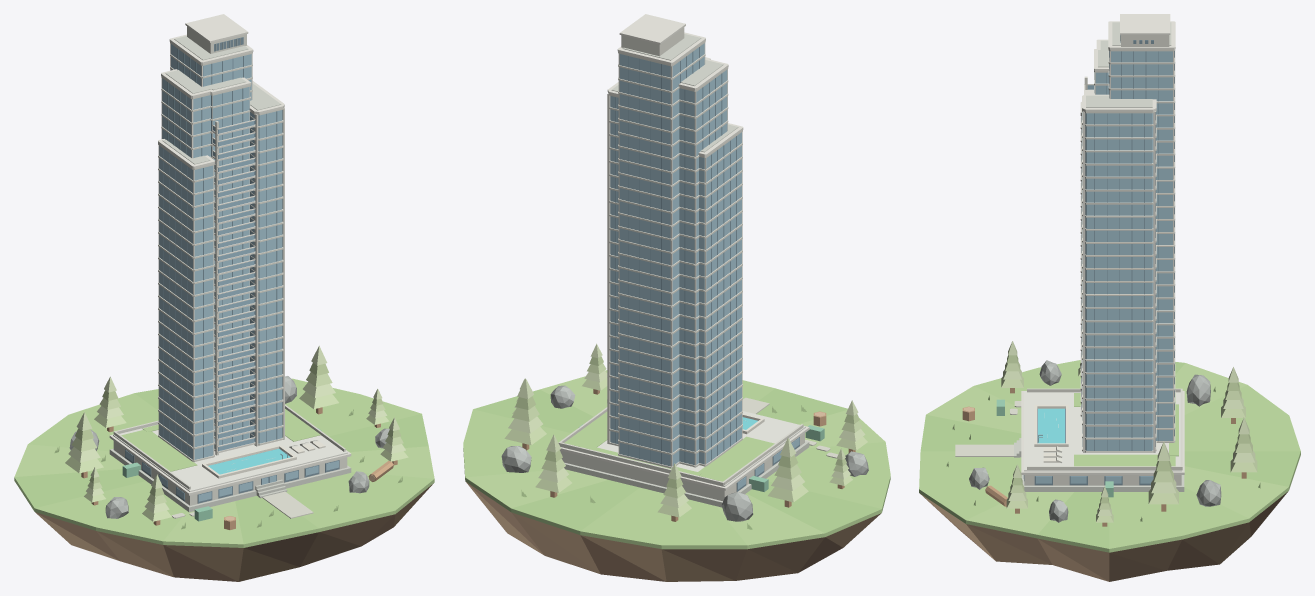
The model's file is miami-penthouse.glb.
3 renders of one model, left to right at view 1: azimuth 30°, elevation 25°; view 2: azimuth 150°, elevation 25°; view 3: azimuth 270°, elevation 25°, orthographic. The views are drawn at different scales.
Visible parts, largest first — view 1: Tower_Left_Wing_Windows__glass, Island_Grass__grass, Tower_Right_Wing_Windows__glass, Island_Grass__grass_dark, Tower_Central_Core_Windows__glass, Island_Grass__grass_light, Tower_Balcony_Rails__glass_dark, Tower_Left_Wing_Floor_Bands__ivory, Island_Faceted_Earth__earth, Island_Faceted_Earth__earth_light, Island_Faceted_Earth__earth_dark, Tower_Terrace__tile (+29 smaller); view 2: Tower_Rear_Crown_Windows__glass, Island_Grass__grass, Tower_Left_Wing_Windows__glass, Island_Grass__grass_dark, Tower_Upper_Left_Windows__glass, Island_Grass__grass_light, Tower_Rear_Crown_Floor_Bands__ivory, Island_Faceted_Earth__earth, Island_Faceted_Earth__earth_dark, Island_Faceted_Earth__earth_light, Island_Pine_Trees__leaf, Tower_Left_Wing_Floor_Bands__ivory (+23 smaller); view 3: Tower_Right_Wing_Windows__glass, Island_Grass__grass, Tower_Rear_Crown_Windows__glass, Island_Grass__grass_light, Island_Grass__grass_dark, Tower_Right_Wing_Floor_Bands__ivory, Island_Faceted_Earth__earth, Tower_Terrace__tile, Island_Faceted_Earth__earth_light, Tower_Rear_Crown_Floor_Bands__ivory, Island_Pine_Trees__leaf, Island_Boulders__rock (+21 smaller).
Part boxes in pixels (bbox=[...]): Tower_Left_Wing_Windows__glass: bbox=[159, 146, 213, 459]; Island_Grass__grass: bbox=[28, 379, 434, 541]; Tower_Right_Wing_Windows__glass: bbox=[250, 110, 282, 443]; Island_Grass__grass_dark: bbox=[14, 389, 428, 544]; Tower_Central_Core_Windows__glass: bbox=[211, 87, 249, 445]; Island_Grass__grass_light: bbox=[14, 378, 434, 544]; Tower_Balcony_Rails__glass_dark: bbox=[213, 117, 255, 451]; Tower_Left_Wing_Floor_Bands__ivory: bbox=[158, 143, 214, 461]; Island_Faceted_Earth__earth: bbox=[96, 514, 394, 577]; Island_Faceted_Earth__earth_light: bbox=[35, 483, 433, 581]; Island_Faceted_Earth__earth_dark: bbox=[35, 512, 395, 581]; Tower_Terrace__tile: bbox=[113, 424, 347, 491]; Tower_Rear_Crown_Windows__glass: bbox=[619, 43, 704, 466]; Island_Grass__grass: bbox=[463, 380, 890, 545]; Tower_Left_Wing_Windows__glass: bbox=[699, 132, 741, 464]; Island_Grass__grass_dark: bbox=[473, 388, 881, 533]; Tower_Upper_Left_Windows__glass: bbox=[679, 70, 727, 464]; Island_Grass__grass_light: bbox=[465, 370, 885, 545]; Tower_Rear_Crown_Floor_Bands__ivory: bbox=[618, 41, 705, 468]; Island_Faceted_Earth__earth: bbox=[511, 512, 824, 580]; Island_Faceted_Earth__earth_dark: bbox=[466, 482, 842, 581]; Island_Faceted_Earth__earth_light: bbox=[466, 482, 881, 581]; Island_Pine_Trees__leaf: bbox=[504, 363, 867, 517]; Tower_Left_Wing_Floor_Bands__ivory: bbox=[699, 130, 742, 466]; Tower_Right_Wing_Windows__glass: bbox=[1085, 113, 1153, 450]; Island_Grass__grass: bbox=[919, 360, 1300, 548]; Tower_Rear_Crown_Windows__glass: bbox=[1109, 51, 1172, 440]; Island_Grass__grass_light: bbox=[926, 363, 1288, 534]; Island_Grass__grass_dark: bbox=[920, 362, 1300, 548]; Tower_Right_Wing_Floor_Bands__ivory: bbox=[1082, 110, 1156, 452]; Island_Faceted_Earth__earth: bbox=[1038, 538, 1181, 581]; Tower_Terrace__tile: bbox=[1024, 391, 1181, 471]; Island_Faceted_Earth__earth_light: bbox=[920, 494, 1251, 564]; Tower_Rear_Crown_Floor_Bands__ivory: bbox=[1108, 49, 1175, 442]; Island_Pine_Trees__leaf: bbox=[1001, 362, 1257, 522]; Island_Boulders__rock: bbox=[969, 360, 1221, 522].
Bounding box in the file's own units: 38.95 × 46.03 × 32.33.
